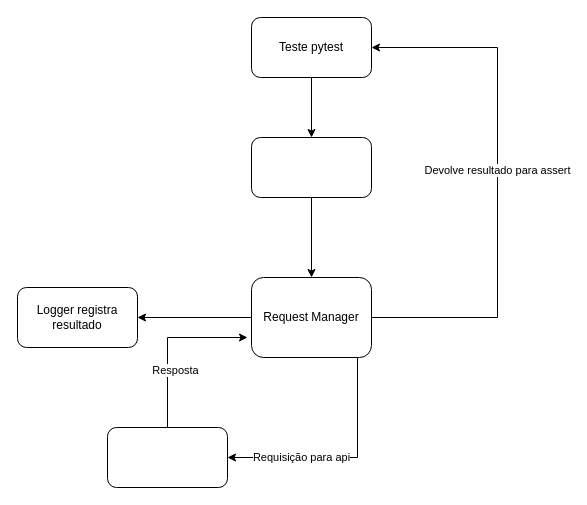
Image size: 587x505. Some labels were removed from this diagram. Here are the shapes that lost their labels. From the top down, the box of each, then its label:
(250, 136, 372, 198): Alguma service
(106, 426, 228, 488): API externa
